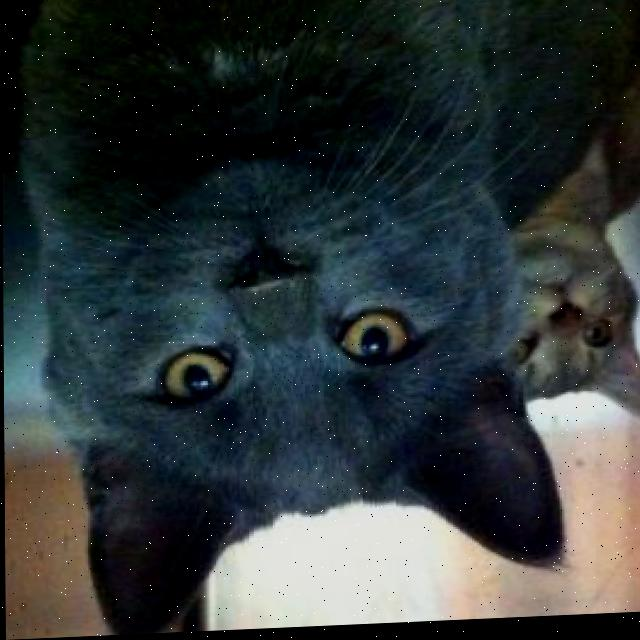British Shorthair: (12, 0, 640, 640), (487, 134, 640, 446)
